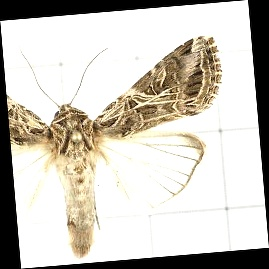Spodoptera litura: (11, 36, 229, 255)
